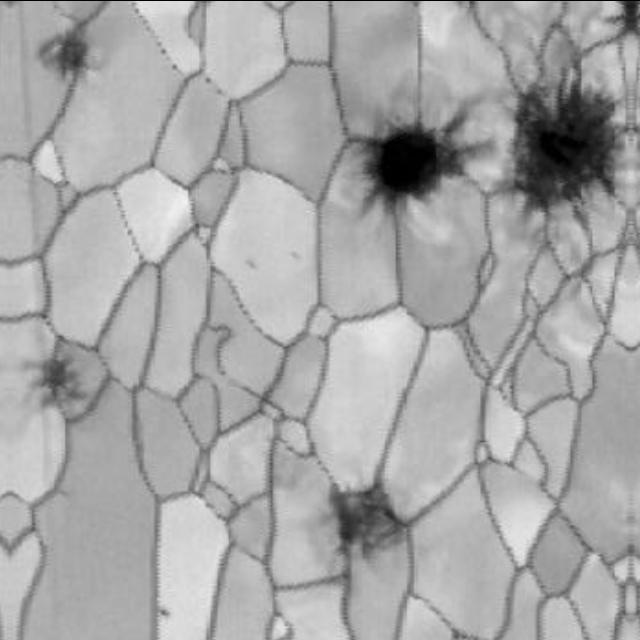good_void: (483, 73, 631, 231), (348, 109, 489, 216), (327, 475, 408, 561), (24, 340, 88, 412), (33, 27, 98, 83), (286, 244, 302, 263), (155, 603, 173, 619), (243, 257, 258, 271)
